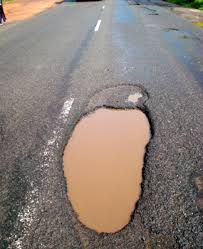pothole: (56, 72, 163, 243)
